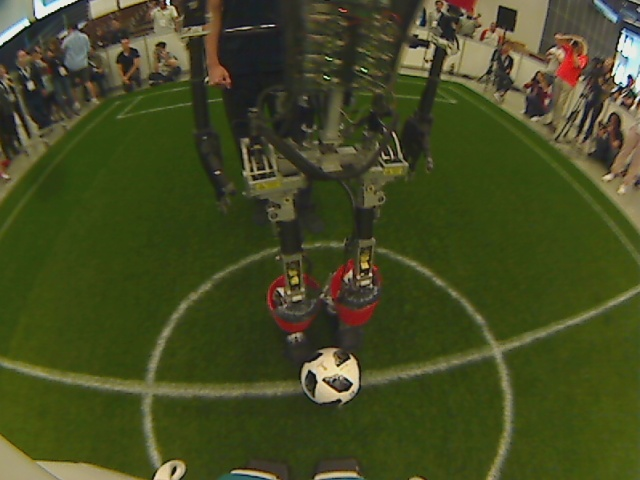ball: (298, 345, 363, 406)
